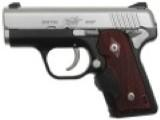gun: (2, 1, 159, 118)
